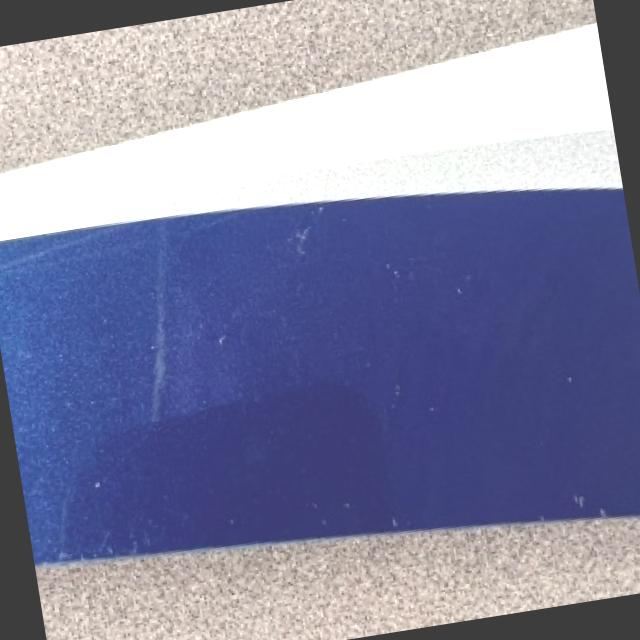healthy: (0, 24, 640, 560)
